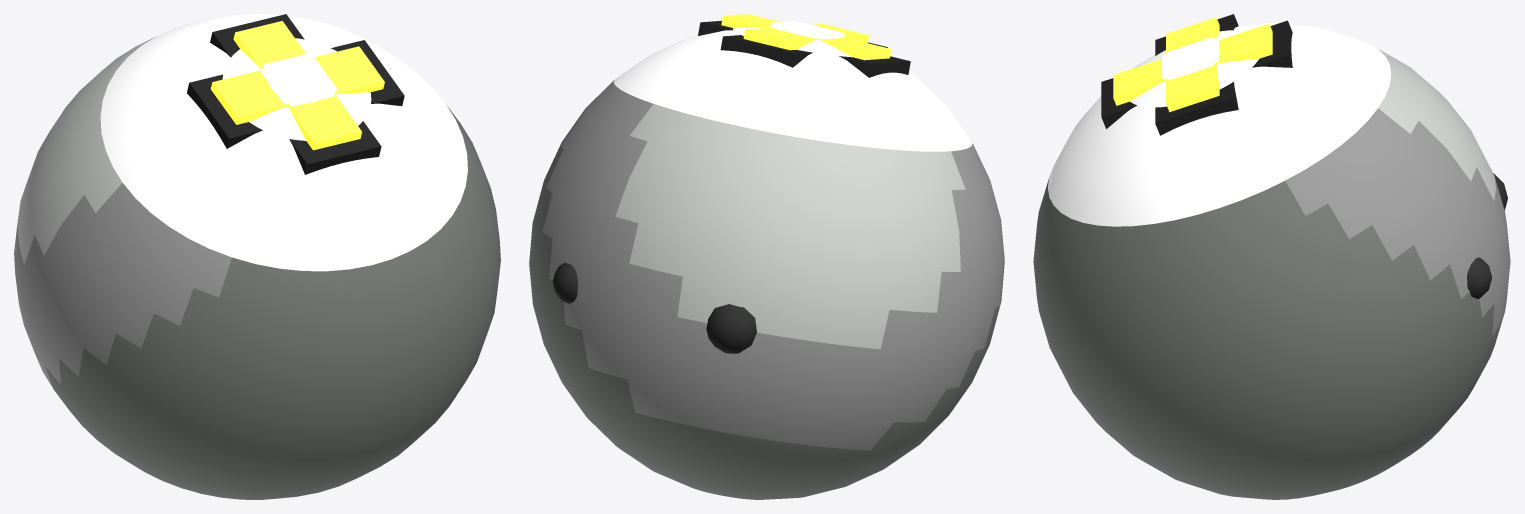
The model's file is seeker_mine_285.glb.
3 renders of one model, left to right at view 1: azimuth 30°, elevation 25°; view 2: azimuth 150°, elevation 25°; view 3: azimuth 270°, elevation 25°, orthographic. The views are drawn at different scales.
Parts seen in each view (by area): view 1: seeker_mine_285; view 2: seeker_mine_285; view 3: seeker_mine_285.
Boxes of the visible parts, x1=… form: seeker_mine_285: x1=14, y1=14, x2=500, y2=499; seeker_mine_285: x1=529, y1=14, x2=1004, y2=499; seeker_mine_285: x1=1033, y1=14, x2=1510, y2=499.
Size of the model in its own units: 8.9 by 9.11 by 8.9.
